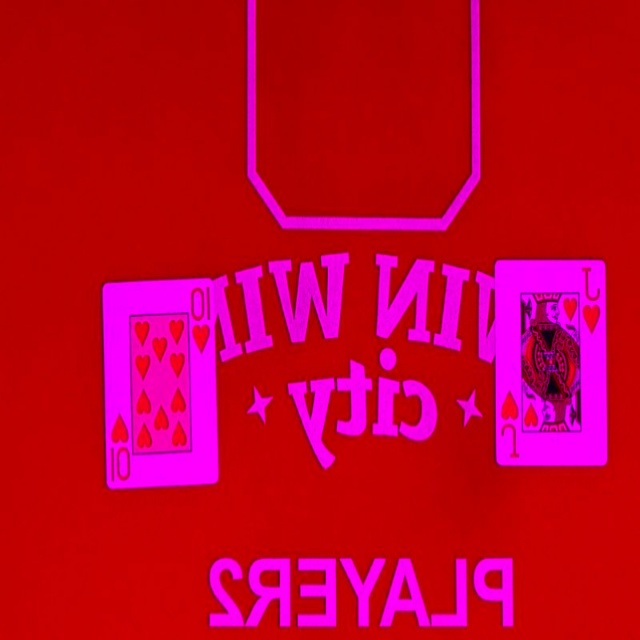10H: (186, 277, 214, 356), (104, 409, 130, 485)
JH: (496, 386, 521, 463), (580, 265, 606, 339)
